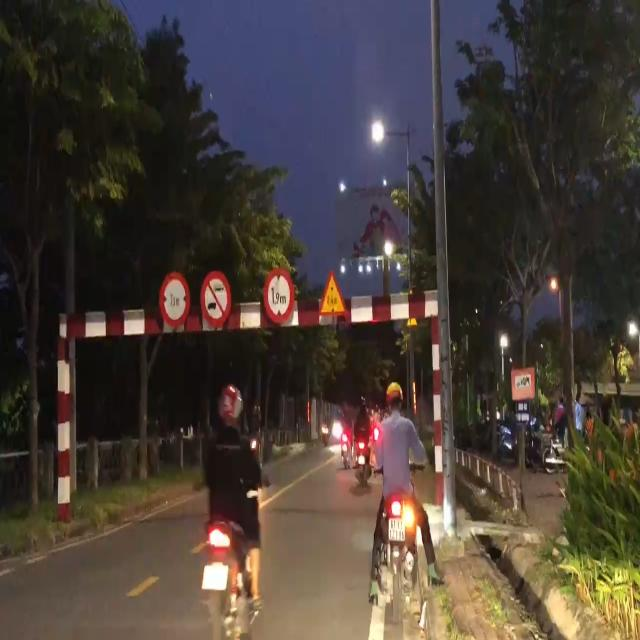Bien bao cam xe oto khach va xe oto tai: (199, 266, 232, 328)
Bien bao chieu cao tinh khong thuc te: (318, 268, 352, 323)
Bien bao han che chieu cao: (262, 264, 297, 324)
